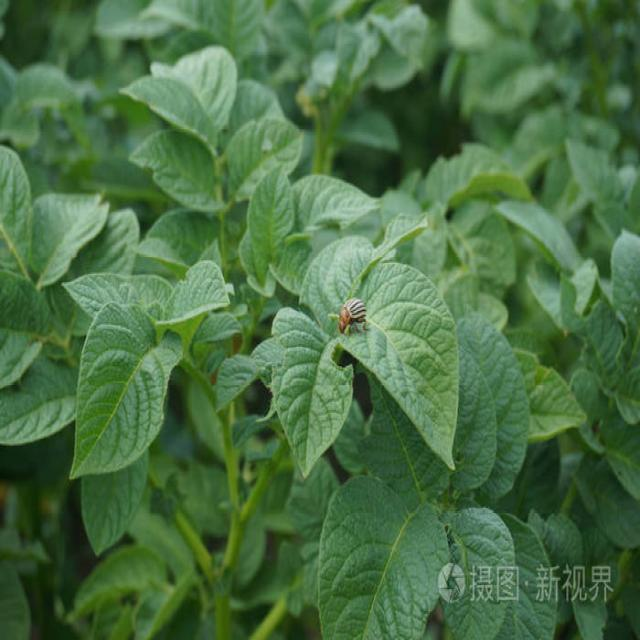ShuCaiHuaBanChong-Grown-: (336, 291, 370, 344)
